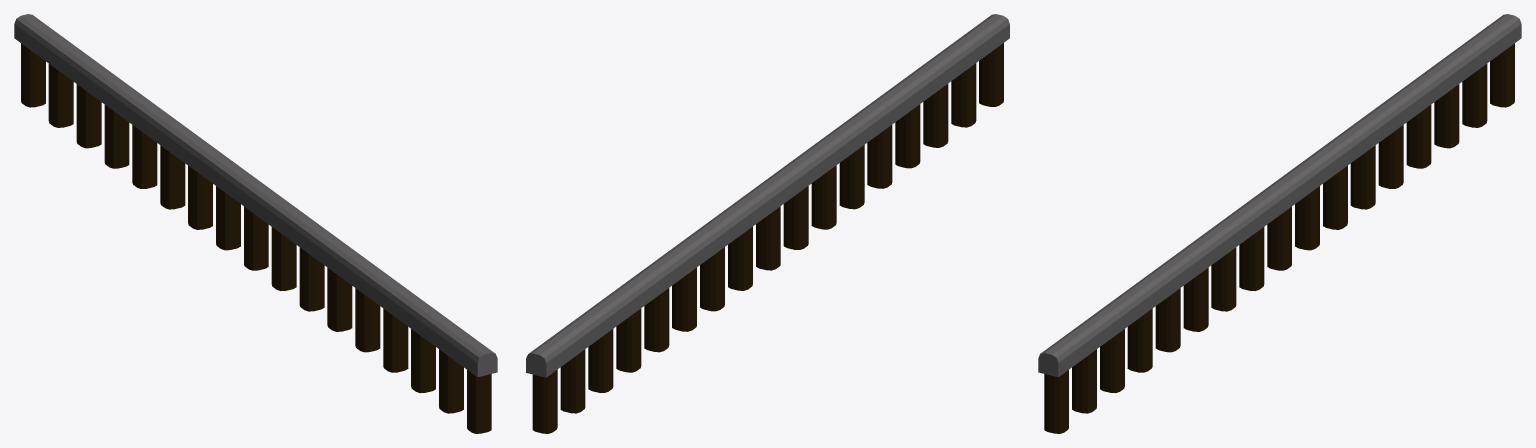
The model's file is fence.fbx.
3 views of the same model, side by side, from view 1: azimuth 30°, elevation 25°; view 2: azimuth 150°, elevation 25°; view 3: azimuth 330°, elevation 25° (orthographic).
Parts seen in each view (by area): view 1: Cube; view 2: Cube; view 3: Cube.
Boxes of the visible parts, x1,y1,x2,y2 form: Cube: [14, 14, 497, 433]; Cube: [526, 14, 1009, 433]; Cube: [1038, 14, 1521, 433].
Bounding box in the file's own units: 76.18 × 293 × 3047.
